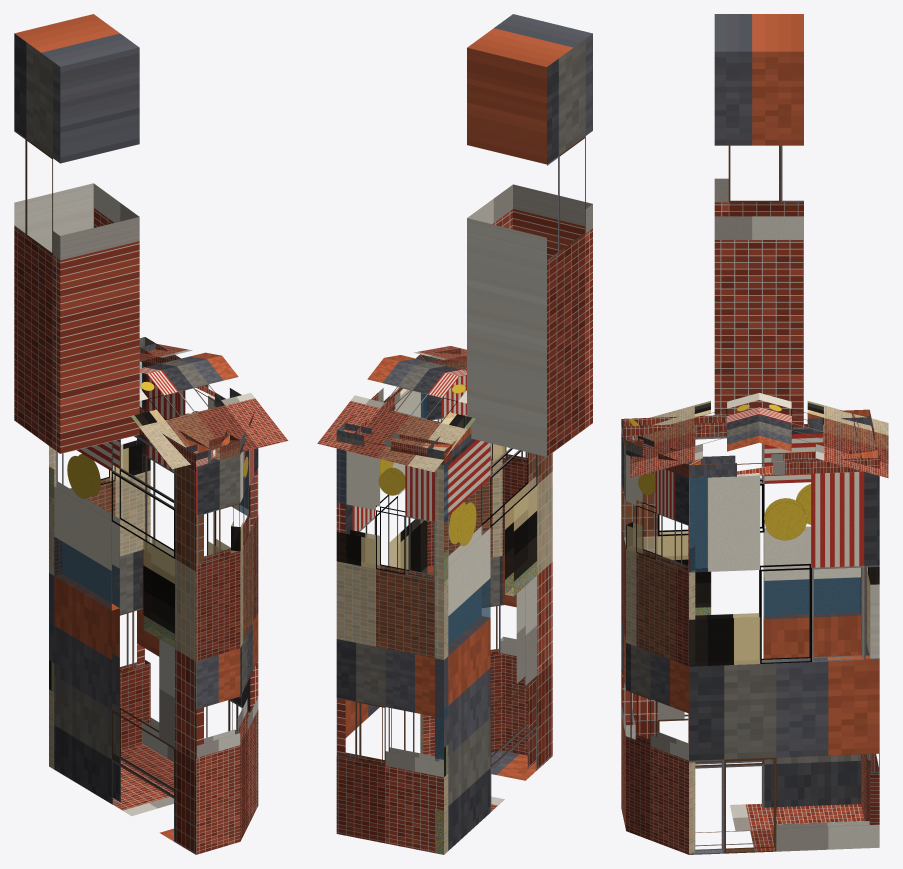
3 renders of one model, left to right at view 1: azimuth 30°, elevation 25°; view 2: azimuth 150°, elevation 25°; view 3: azimuth 270°, elevation 25°, orthographic. The views are drawn at different scales.
Visible parts, largest first — view 1: 717952680__chimney_0_xb, 717952680__wall_0_xb, 717952680__wall_1_xb, 717952680__wall_4_xb, 717952680_roof_-1_xb, 717952680__wall_2_xb, 717952680__wall_3_xb, 717952680__wall_0_xf, 717952680__base, 717952680__wall_4_xf, 717952680_roof_1_xb, 717952680__cornice_1 (+2 smaller); view 2: 717952680__chimney_0_xb, 717952680__wall_4_xb, 717952680__wall_0_xb, 717952680_roof_1_xb, 717952680__wall_2_xb, 717952680__wall_0_xf, 717952680__wall_3_xb, 717952680__wall_1_xb, 717952680__wall_4_xf, 717952680__wall_3_xf, 717952680__cornice_4, 717952680_roof_-1_xb (+2 smaller); view 3: 717952680__wall_3_xb, 717952680__chimney_0_xb, 717952680__wall_0_xb, 717952680__wall_2_xb, 717952680__wall_3_xf, 717952680_roof_1_xb, 717952680__wall_0_xf, 717952680_roof_-1_xb, 717952680__base, 717952680__cornice_3, 717952680__wall_4_xb, 717952680__cornice_0 (+2 smaller).
Boxes of the visible parts, <box> form: 717952680__chimney_0_xb: <box>14,14,139,453</box>; 717952680__wall_0_xb: <box>49,435,203,854</box>; 717952680__wall_1_xb: <box>196,455,240,854</box>; 717952680__wall_4_xb: <box>49,361,150,769</box>; 717952680_roof_-1_xb: <box>131,355,288,469</box>; 717952680__wall_2_xb: <box>231,448,258,841</box>; 717952680__wall_3_xb: <box>137,362,258,761</box>; 717952680__wall_0_xf: <box>54,537,174,647</box>; 717952680__base: <box>113,743,173,841</box>; 717952680__wall_4_xf: <box>49,363,150,691</box>; 717952680_roof_1_xb: <box>139,344,221,373</box>; 717952680__cornice_1: <box>186,434,240,466</box>; 717952680__chimney_0_xb: <box>467,14,592,456</box>; 717952680__wall_4_xb: <box>336,448,448,854</box>; 717952680__wall_0_xb: <box>435,438,552,854</box>; 717952680_roof_1_xb: <box>317,358,475,471</box>; 717952680__wall_2_xb: <box>420,366,506,755</box>; 717952680__wall_0_xf: <box>435,465,536,854</box>; 717952680__wall_3_xb: <box>336,387,427,759</box>; 717952680__wall_1_xb: <box>500,451,527,755</box>; 717952680__wall_4_xf: <box>337,449,447,776</box>; 717952680__wall_3_xf: <box>389,393,426,571</box>; 717952680__cornice_4: <box>336,423,451,464</box>; 717952680_roof_-1_xb: <box>384,346,466,376</box>; 717952680__wall_3_xb: <box>688,471,879,854</box>; 717952680__chimney_0_xb: <box>714,14,803,428</box>; 717952680__wall_0_xb: <box>621,427,870,807</box>; 717952680__wall_2_xb: <box>626,454,695,854</box>; 717952680__wall_3_xf: <box>689,478,805,665</box>; 717952680_roof_1_xb: <box>759,393,888,478</box>; 717952680__wall_0_xf: <box>658,531,860,806</box>; 717952680_roof_-1_xb: <box>630,393,759,478</box>; 717952680__base: <box>692,803,864,853</box>; 717952680__cornice_3: <box>687,450,879,478</box>; 717952680__wall_4_xb: <box>860,567,879,824</box>; 717952680__cornice_0: <box>621,409,871,439</box>.
Bounding box in the file's own units: 0.3496 × 1.4 × 0.4498.
Materials: 1 (1 with a texture image).
